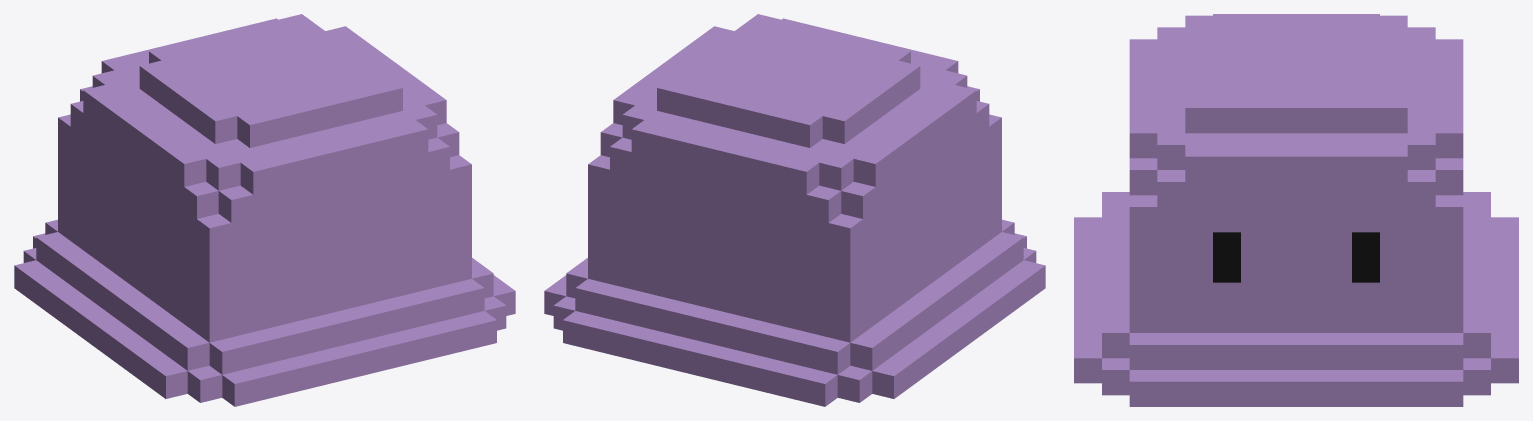
Rendered from slime5qwe.obj.
3 views of the same model, side by side, from view 1: azimuth 30°, elevation 25°; view 2: azimuth 150°, elevation 25°; view 3: azimuth 270°, elevation 25° (orthographic). The views are drawn at different scales.
Bounding box in the file's own units: 1.6 × 1 × 1.6.
1 material, 1 textured.
